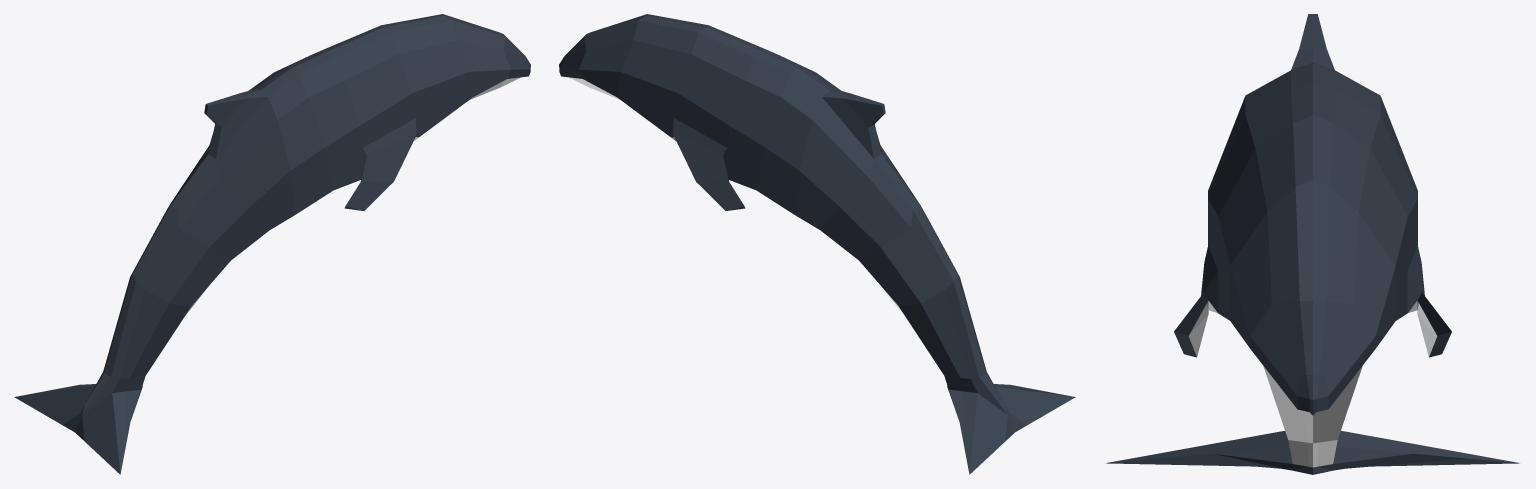
File: dolphin.fbx
3 renders of one model, left to right at view 1: azimuth 30°, elevation 25°; view 2: azimuth 150°, elevation 25°; view 3: azimuth 270°, elevation 25°, orthographic. The views are drawn at different scales.
Visible parts, largest first — view 1: Dolphin; view 2: Dolphin; view 3: Dolphin.
Boxes of the visible parts, x1,y1,x2,y2 form: Dolphin: (14, 14, 530, 474); Dolphin: (559, 14, 1075, 474); Dolphin: (1106, 14, 1519, 474).
Bounding box in the file's own units: 304 × 208 × 121.
